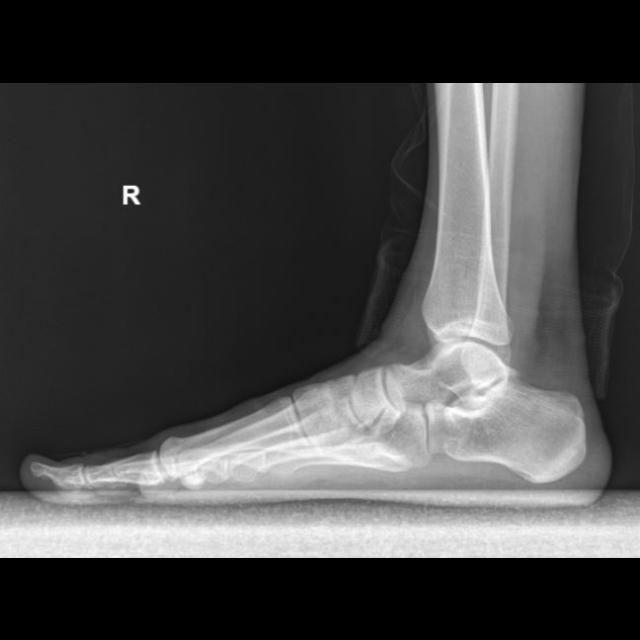a: (425, 371, 585, 481)
b: (348, 366, 406, 435)
c: (159, 395, 319, 493)
